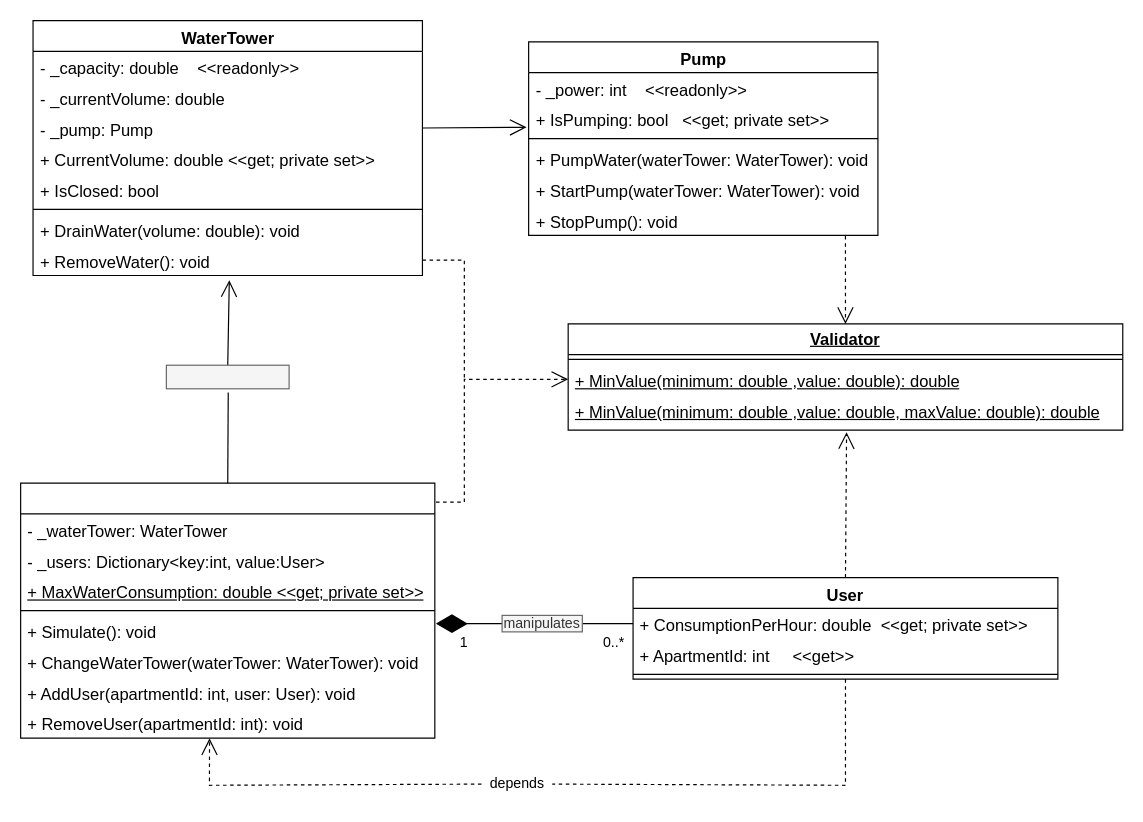
The diagram is 1143 pixels wide and 822 high, and some of its shapes have lost their labels. Each missing label, with the box of its shape:
creates/manages: (165, 364, 289, 389)
Simulator: (19, 482, 435, 738)
